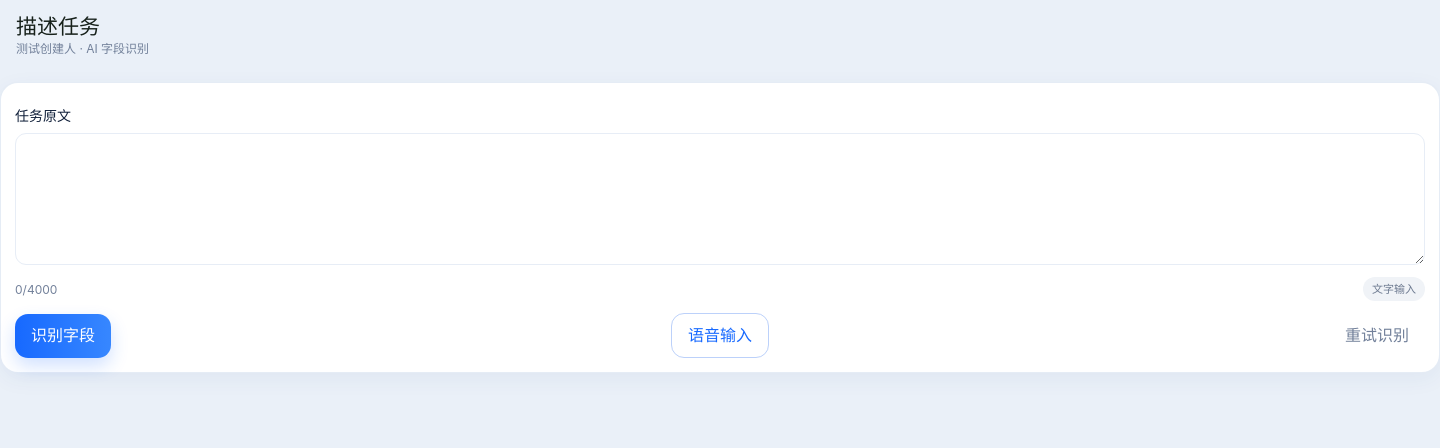
Test: TaskIntakePage › falls back to text when microphone permission is denied
This screenshot has width=1440, height=448.
What coordinates should you click on to do the following:
click the button "语音输入"
I would click on:
 (720, 336)
Its box is [671,313,769,358].
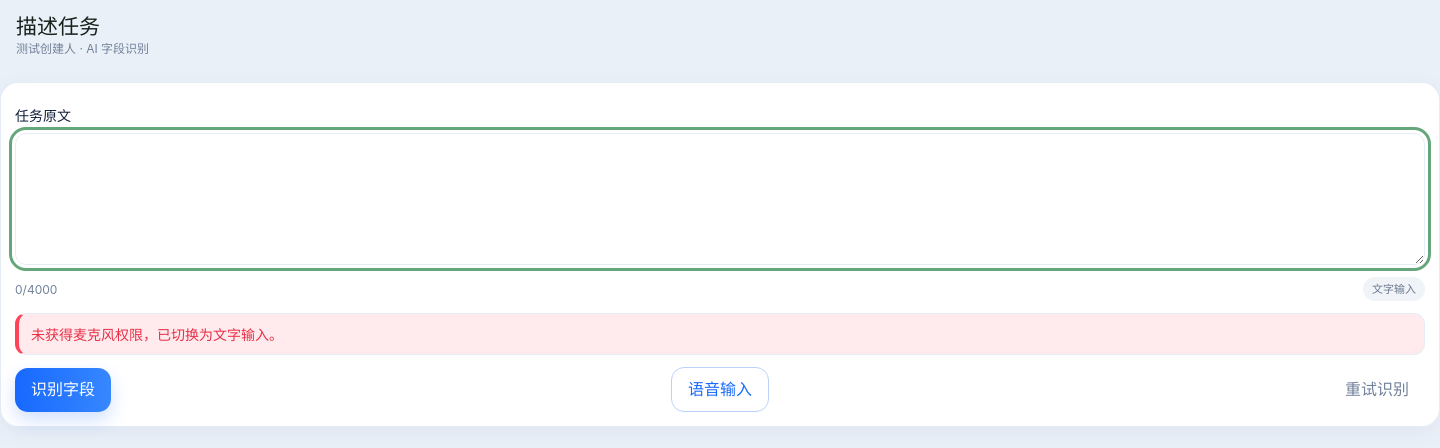
Expected: the message shows "未获得麦克风权限", [31,326,283,343]
